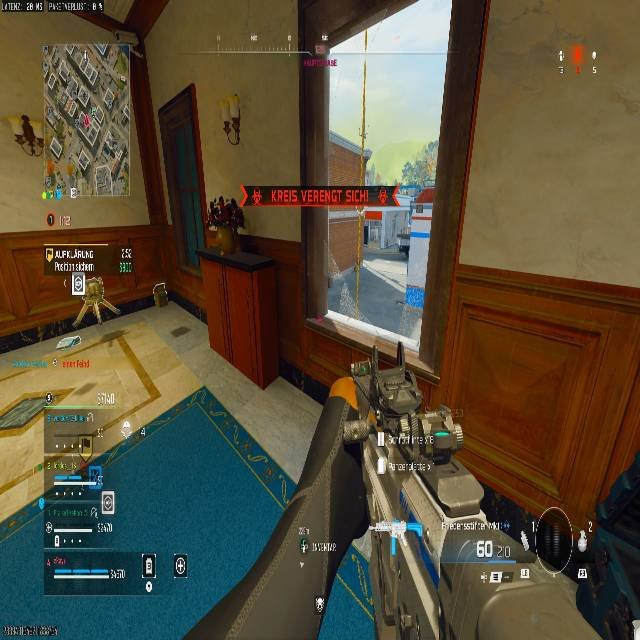player: (66, 271, 121, 326)
